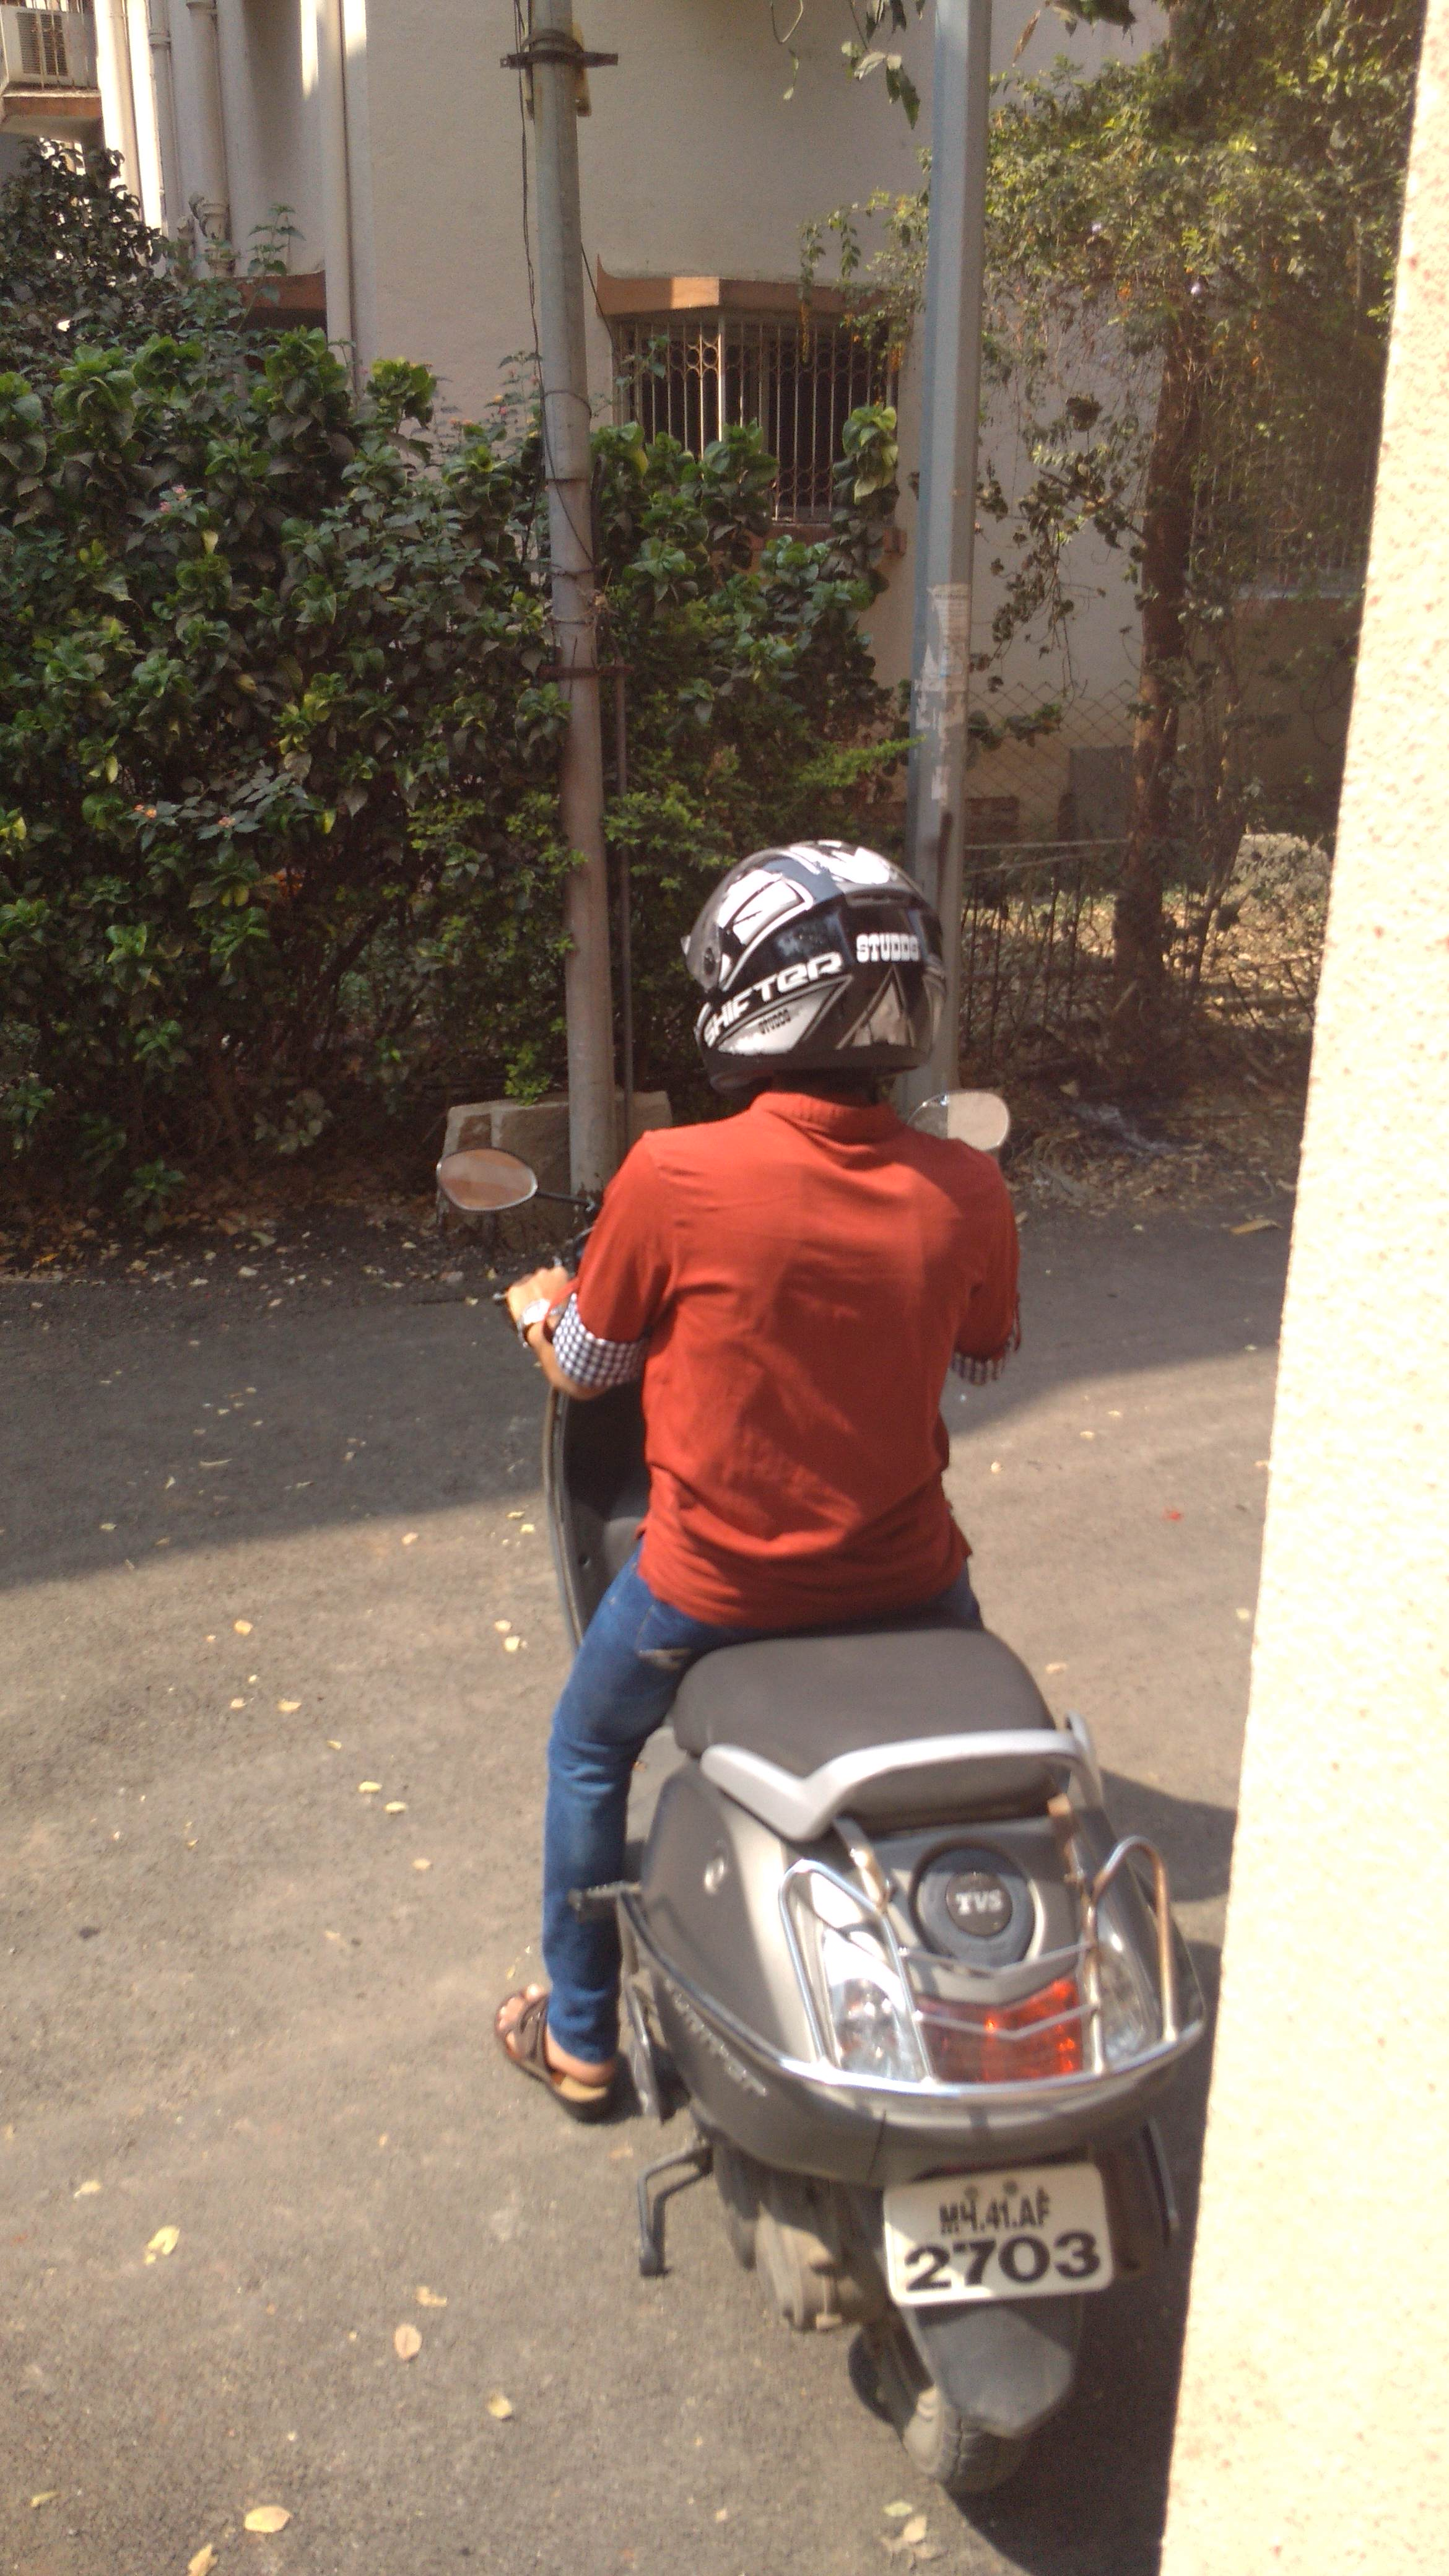helmet: (522, 817, 1063, 1688)
